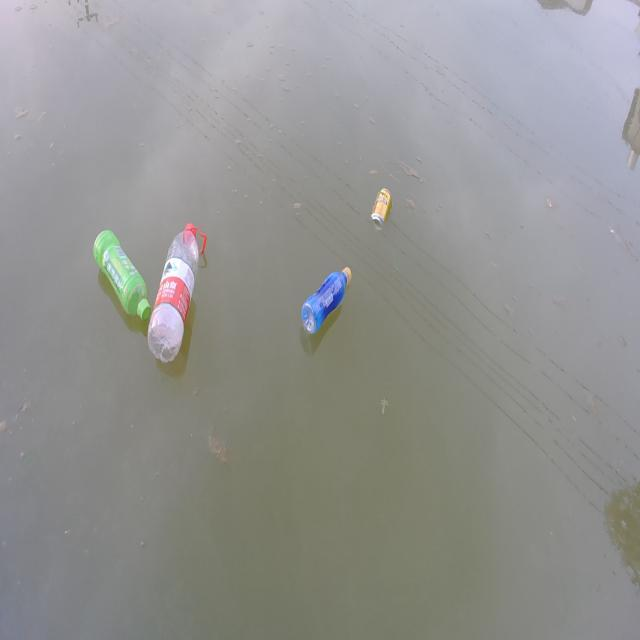garbage: (146, 222, 206, 364), (93, 228, 151, 322), (301, 265, 353, 335), (371, 187, 393, 231)
